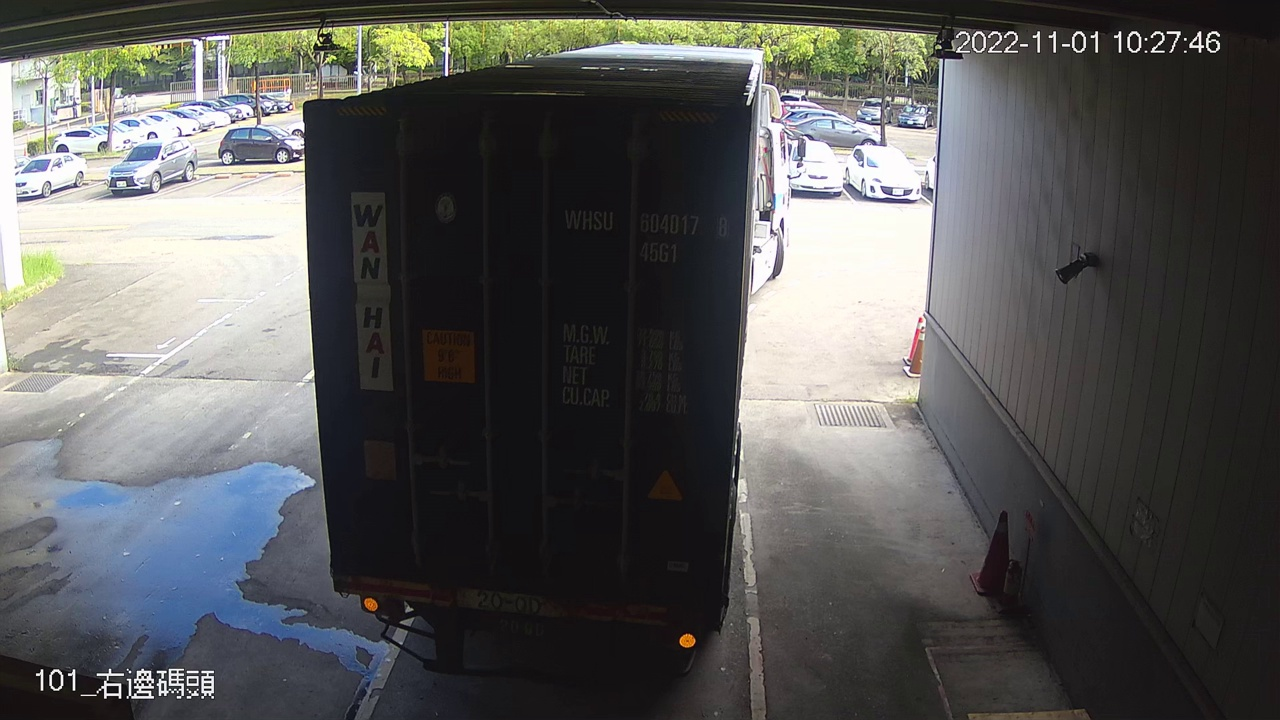container: (556, 201, 734, 269)
